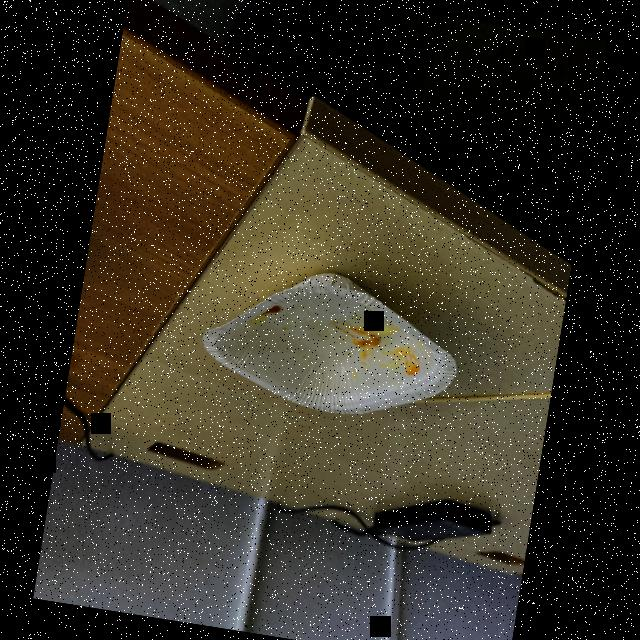cardboard_bowl: (190, 242, 472, 440)
stick: (408, 372, 551, 431)
